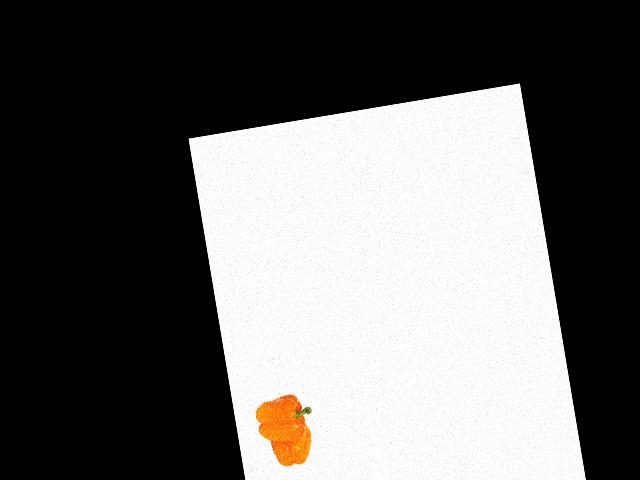bell_pepper: (263, 421, 317, 472)
